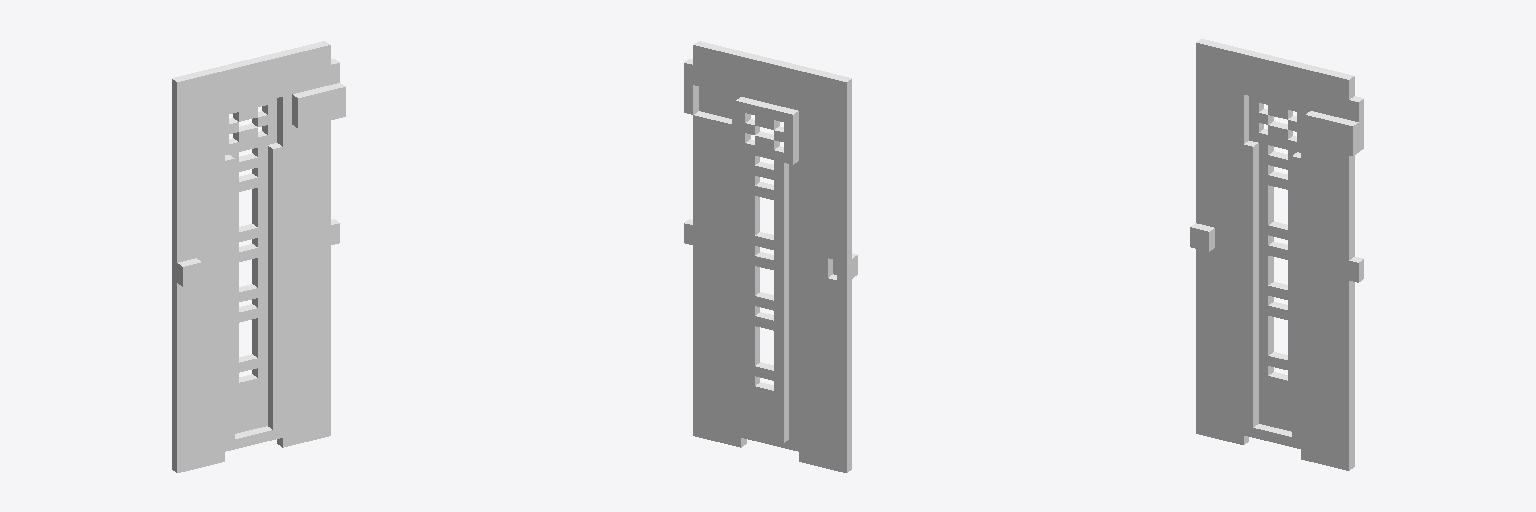
Rendered from SmallBuilding02-2.obj.
3 renders of one model, left to right at view 1: azimuth 30°, elevation 25°; view 2: azimuth 150°, elevation 25°; view 3: azimuth 330°, elevation 25°, orthographic.
Parts seen in each view (by area): view 1: object 1; view 2: object 1; view 3: object 1.
Part boxes in pixels (x1,y1,x2,y2): object 1: (172, 41, 345, 472); object 1: (684, 41, 857, 472); object 1: (1190, 39, 1363, 470).
Size of the model in its own units: 1.7 by 3.9 by 0.3.